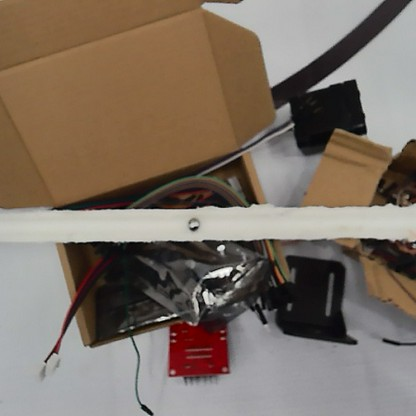ironball: (183, 215, 203, 234)
